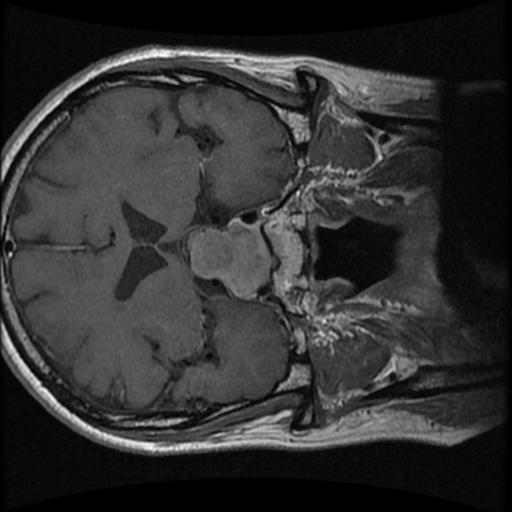pituitary tumour: (189, 222, 269, 298)
